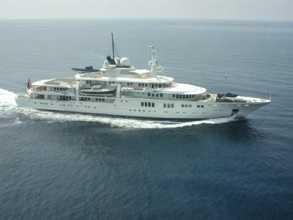yacht: (13, 41, 283, 119)
